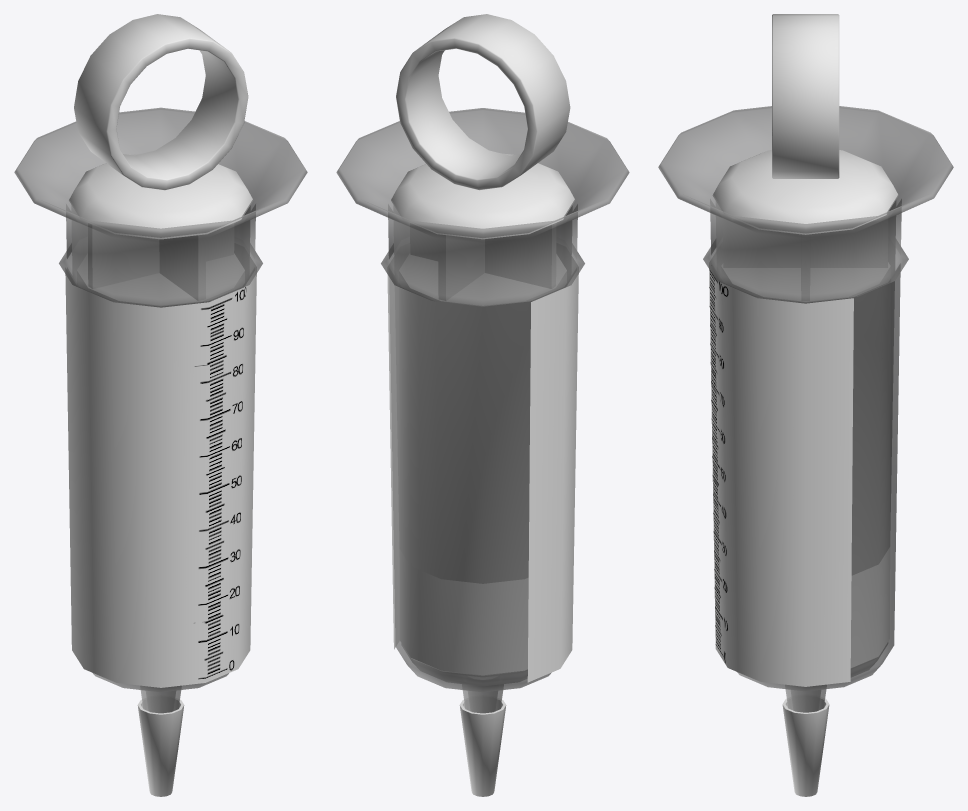
The model's file is 鼻胃管.fbx.
3 renders of one model, left to right at view 1: azimuth 30°, elevation 25°; view 2: azimuth 150°, elevation 25°; view 3: azimuth 270°, elevation 25°, orthographic.
Parts seen in each view (by area): view 1: 刻度, 壓汞, 針筒, 液體, 蓋子; view 2: 針筒, 液體, 壓汞, 刻度, 蓋子; view 3: 刻度, 針筒, 壓汞, 液體, 蓋子.
Part boxes in pixels (x1,y1,x2,y2): 刻度: (65,257,256,687); 壓汞: (69,14,253,300); 針筒: (14,107,307,713); 液體: (77,254,244,307); 蓋子: (137,698,184,796); 針筒: (336,108,629,713); 液體: (399,254,566,676); 壓汞: (391,14,575,300); 刻度: (387,257,578,682); 蓋子: (459,698,506,796); 刻度: (709,253,853,686); 針筒: (658,106,953,712); 壓汞: (712,14,898,300); 液體: (721,263,890,668); 蓋子: (782,697,829,796).
Bounding box in the file's own units: 10.13 × 29.07 × 10.13.
2 materials, 1 textured.
